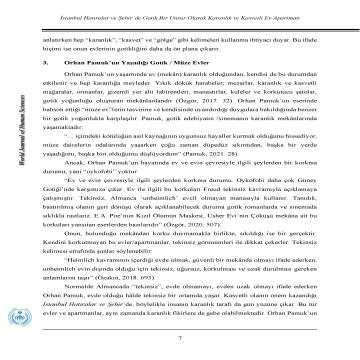header: (59, 14, 306, 22)
